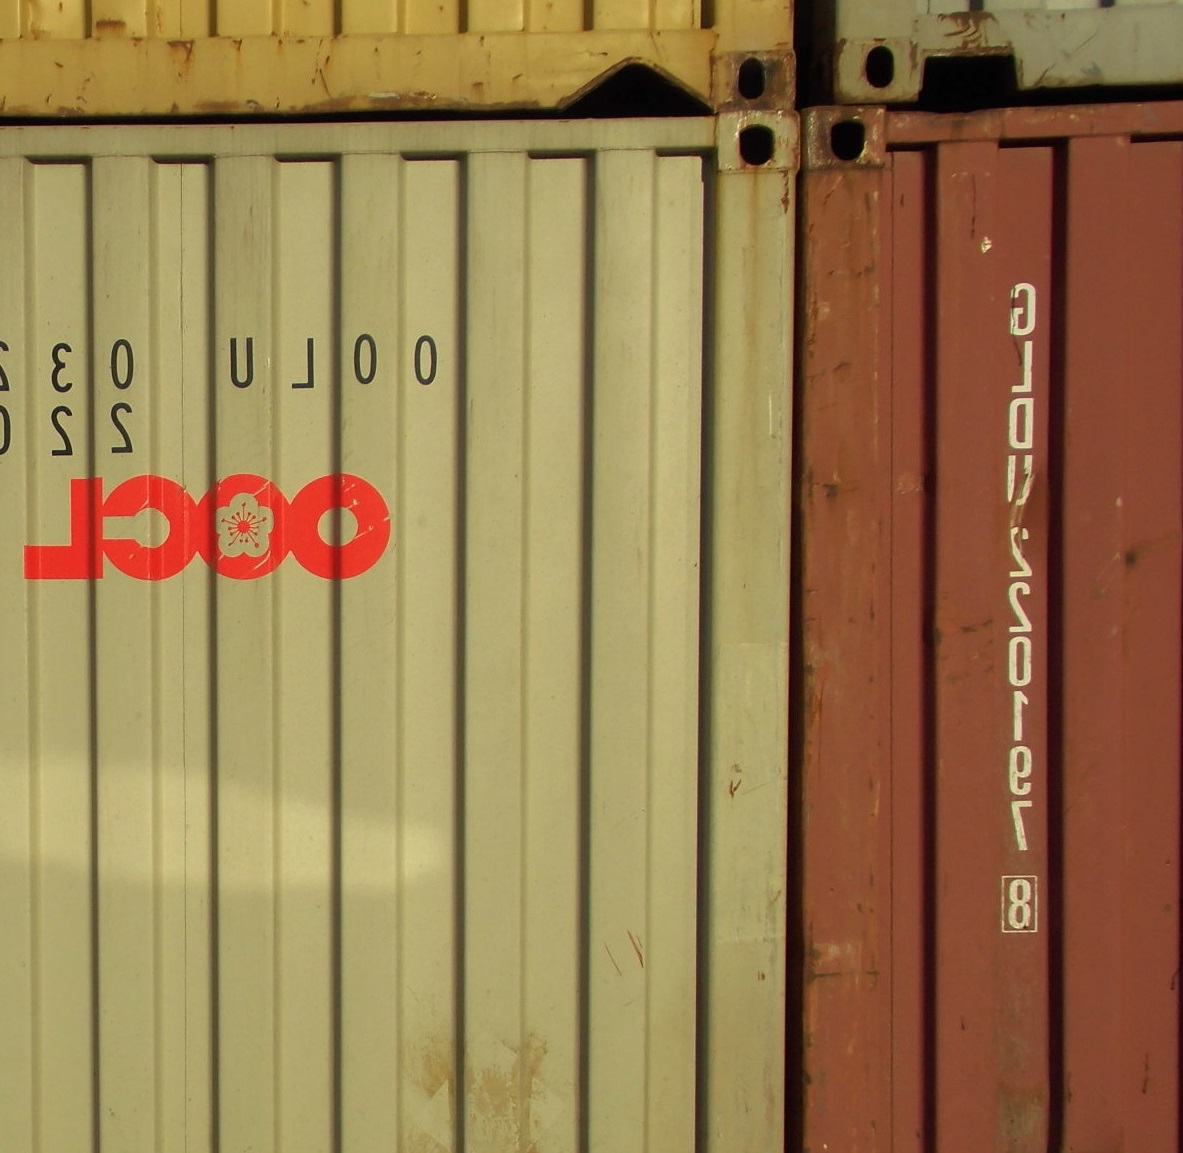container_no_door: (1, 100, 794, 1145), (796, 108, 1182, 1153)
